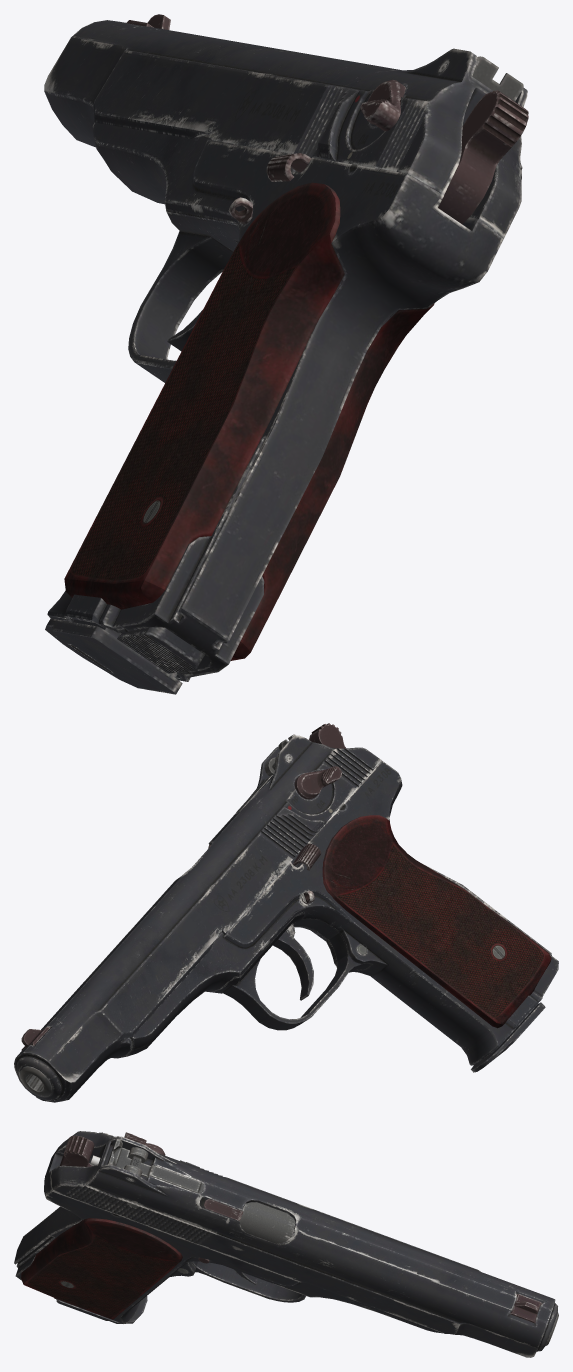
The model's file is pistol.glb.
3 views of the same model, one above another, from view 1: azimuth 30°, elevation 25°; view 2: azimuth 150°, elevation 25°; view 3: azimuth 270°, elevation 25° (orthographic). The views are drawn at different scales.
Visible parts, largest first — view 1: body_low_1, grip_low_1, slide_low_1, kurok_low_1, mag_pyatka_low_1, selector_low_1, parts_low_1, parts2_low_1; view 2: slide_low_1, body_low_1, grip_low_1, selector_low_1, parts_low_1, mag_pyatka_low_1, barrel_low_1.001, kurok_low_1, parts2_low_1; view 3: slide_low_1, grip_low_1, body_low_1, parts_low_1, barrel_low_1.001, kurok_low_1, mag_pyatka_low_1.
Part boxes in pixels (bbox=[...]): body_low_1: bbox=[47, 122, 503, 681]; grip_low_1: bbox=[64, 182, 434, 660]; slide_low_1: bbox=[44, 20, 527, 238]; kurok_low_1: bbox=[430, 90, 528, 224]; mag_pyatka_low_1: bbox=[45, 618, 182, 694]; selector_low_1: bbox=[360, 79, 405, 131]; parts_low_1: bbox=[126, 14, 523, 101]; parts2_low_1: bbox=[228, 153, 311, 224]; slide_low_1: bbox=[14, 735, 381, 1102]; body_low_1: bbox=[114, 761, 558, 1065]; grip_low_1: bbox=[322, 815, 551, 1028]; selector_low_1: bbox=[294, 766, 341, 799]; parts_low_1: bbox=[21, 734, 295, 1050]; mag_pyatka_low_1: bbox=[471, 1002, 545, 1072]; barrel_low_1.001: bbox=[20, 1066, 52, 1096]; kurok_low_1: bbox=[309, 723, 346, 748]; parts2_low_1: bbox=[293, 843, 321, 903]; slide_low_1: bbox=[50, 1131, 557, 1357]; grip_low_1: bbox=[21, 1218, 182, 1319]; body_low_1: bbox=[14, 1140, 442, 1333]; parts_low_1: bbox=[107, 1139, 542, 1323]; barrel_low_1.001: bbox=[236, 1202, 558, 1345]; kurok_low_1: bbox=[60, 1135, 94, 1166]; mag_pyatka_low_1: bbox=[56, 1296, 147, 1323].
Bounding box in the file's own units: 1.17 × 1.14 × 2.06.
1 material, 1 textured.
